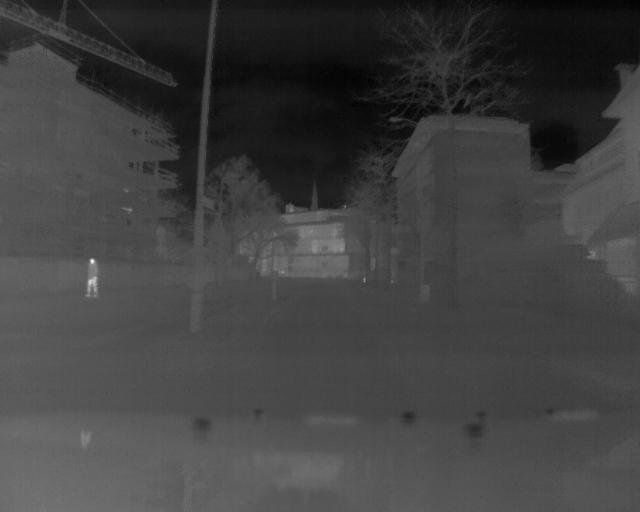person: (80, 255, 100, 298)
